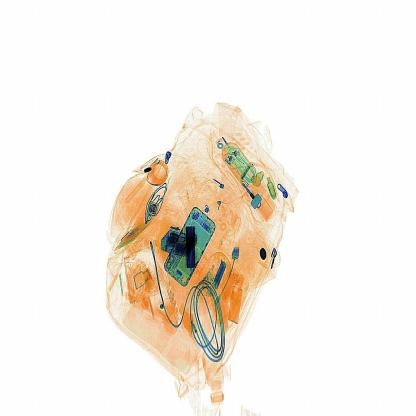scissors: (178, 209, 212, 274)
